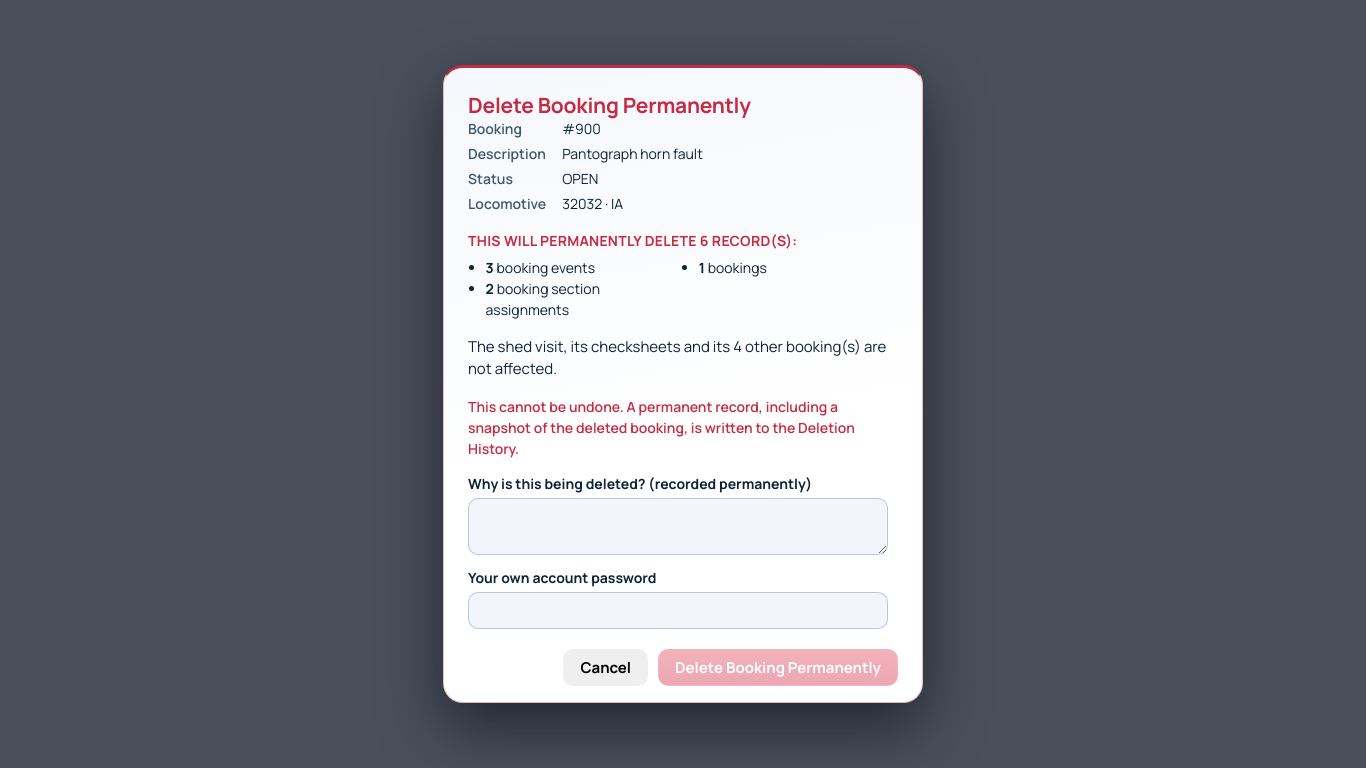
Test: DeleteBookingDialog › clears the password when the server refuses
Expected: the text "Pantograph horn fault" is shown, x1=562 y1=144 x2=703 y2=163
In the text box labelled "Why is this being deleted? (recorded permanently)": (678, 526) x1=468 y1=498 x2=888 y2=555, type "duplicate raised twice"
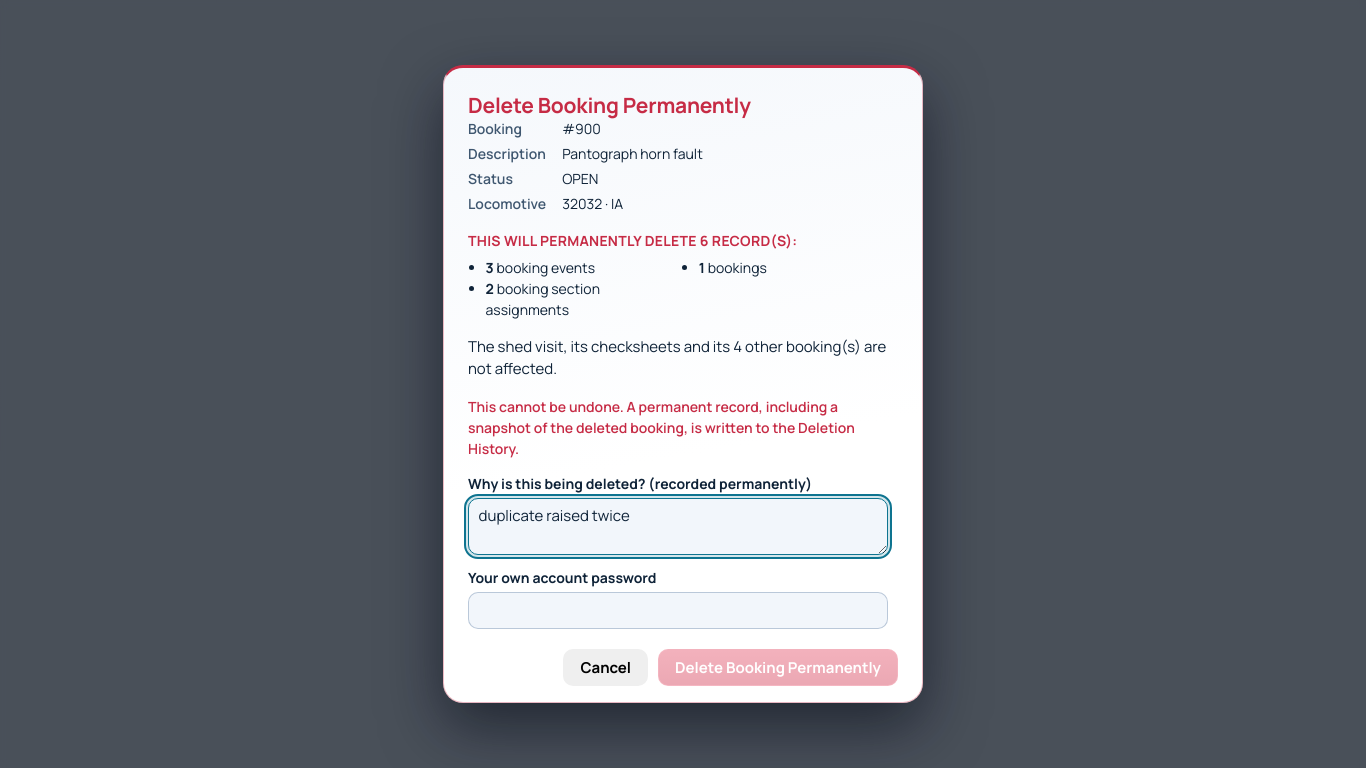
In the password field labelled "Your own account password": (678, 610) x1=468 y1=592 x2=888 y2=629, type "wrong"
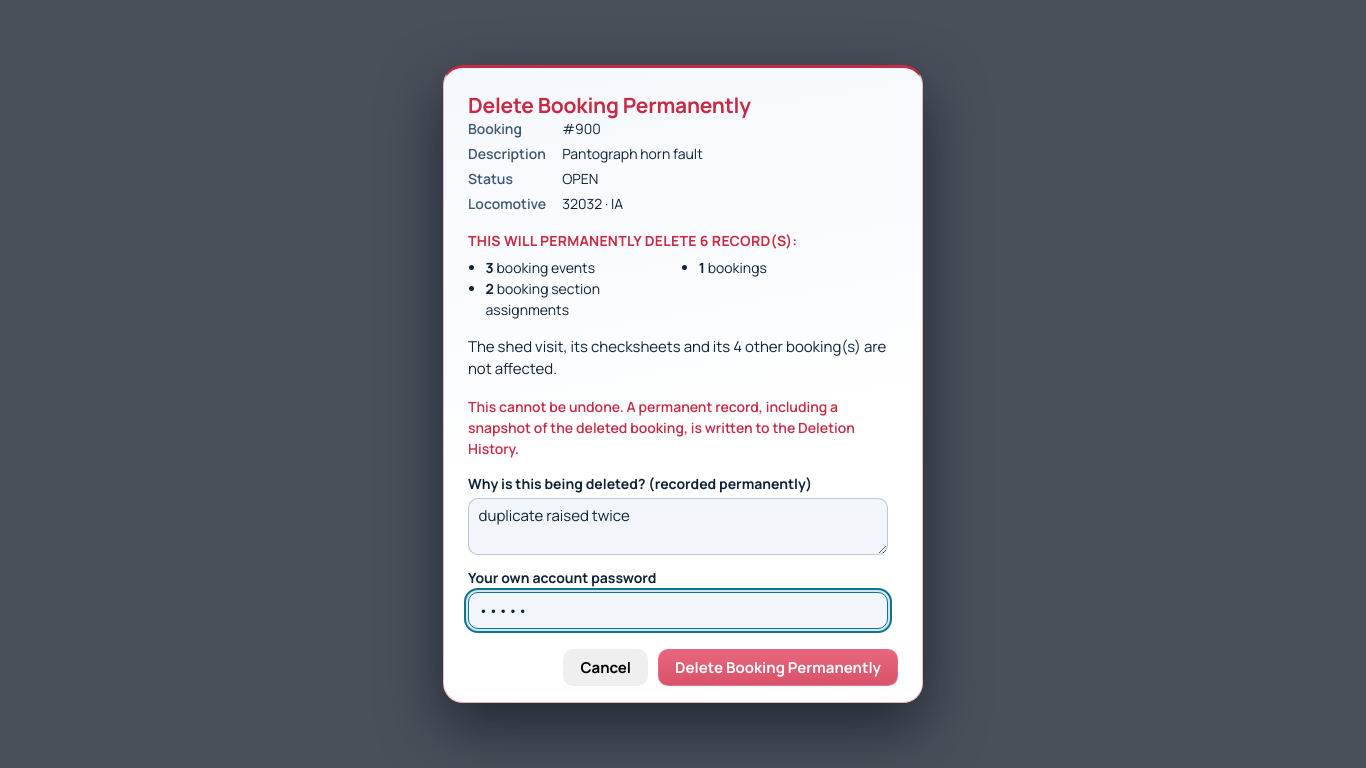
Click the button "Delete Booking Permanently": (778, 667) x1=658 y1=649 x2=898 y2=686
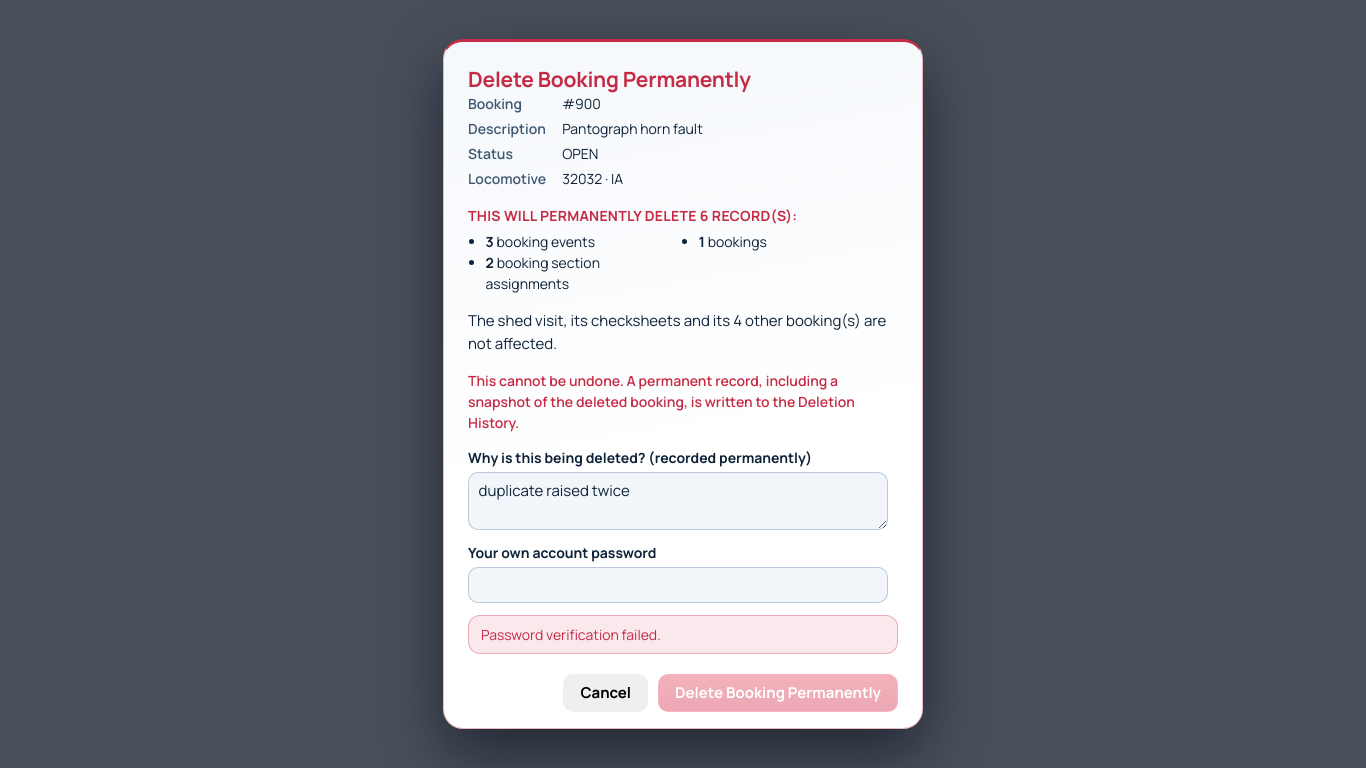
Now the text "Password verification failed." is shown, box x1=468 y1=615 x2=898 y2=654
Now the password field labelled "Your own account password" is empty, box x1=468 y1=567 x2=888 y2=603
